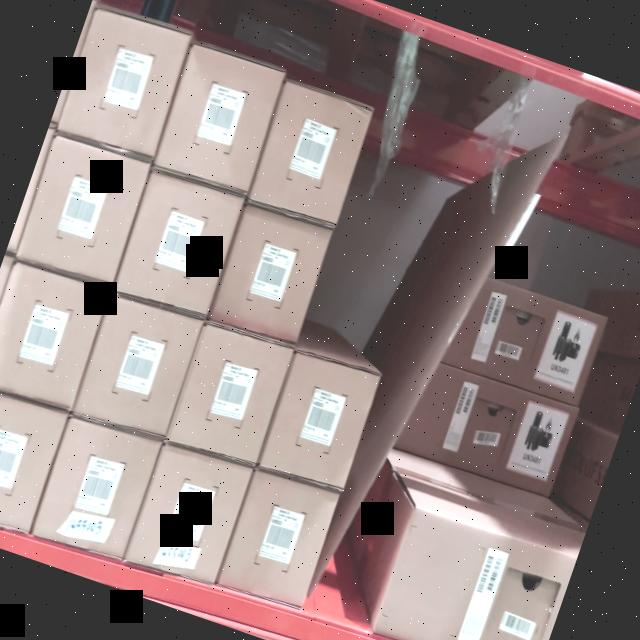box: (18, 132, 150, 286), (58, 5, 190, 158), (153, 42, 284, 195), (74, 292, 202, 441), (113, 172, 244, 316), (166, 322, 292, 468), (248, 83, 374, 228), (32, 418, 160, 560), (216, 468, 338, 610), (126, 446, 250, 584), (210, 205, 332, 342), (260, 351, 380, 489), (0, 260, 108, 413), (0, 385, 67, 535)
